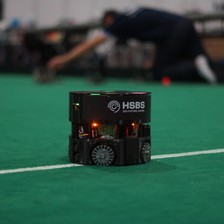ball: (161, 76, 171, 86)
robot: (66, 87, 154, 168)
